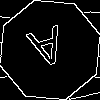A: (25, 25, 71, 79)
